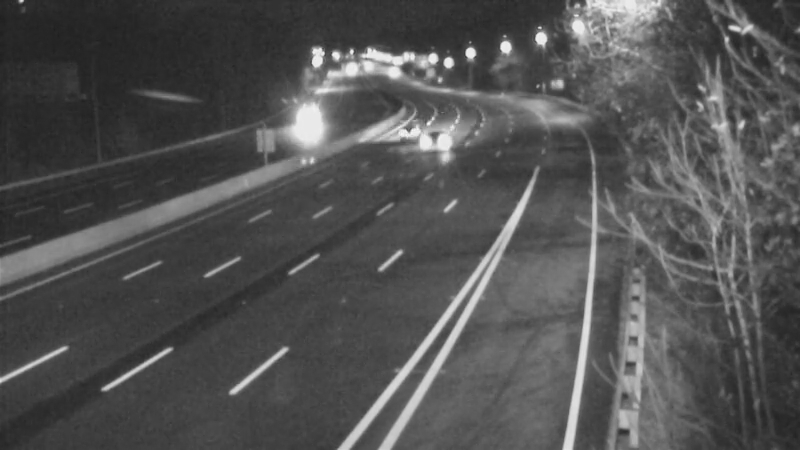vehicle: (367, 45, 417, 95), (386, 101, 436, 151), (412, 111, 462, 161), (280, 94, 330, 144)
